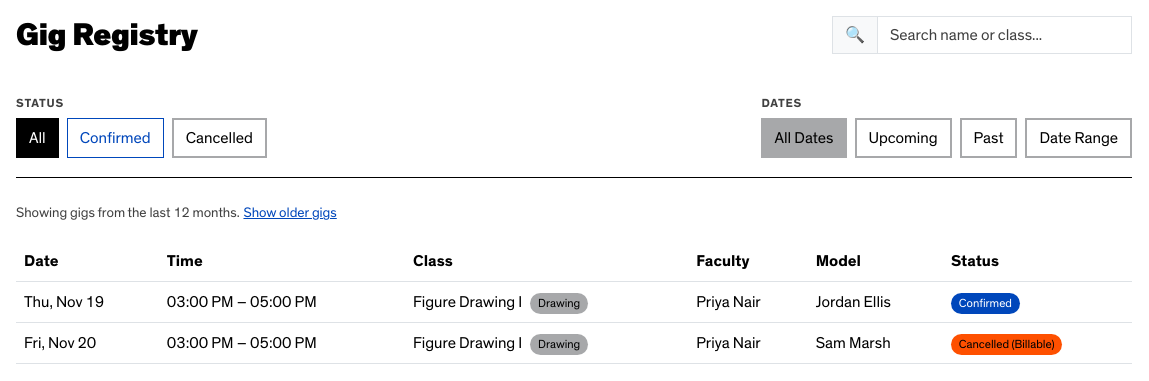
it: AllGigs (Gig Registry) › loads the last 12 months of gigs, and everything after Show older gigs
Expected: the table is shown, [16,241,1132,364]
Click the button "Show older gigs": (290, 214) [242,202,338,225]
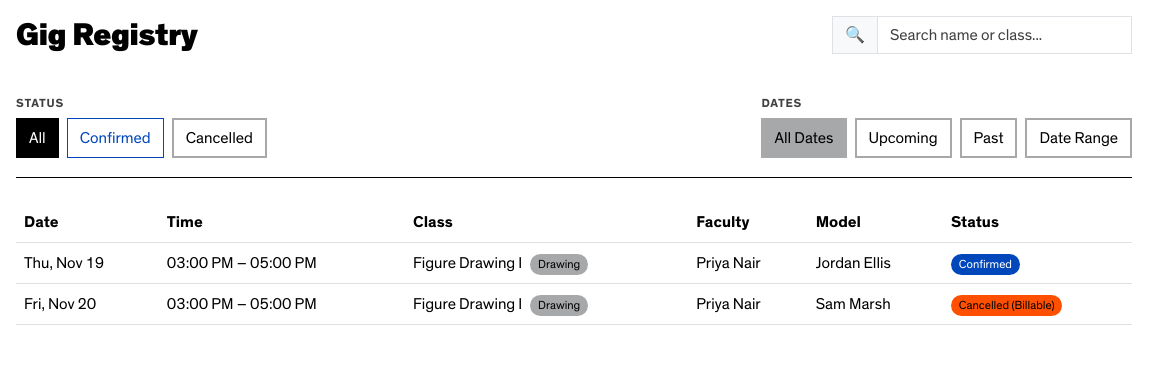
Now the button "Show older gigs" is gone
